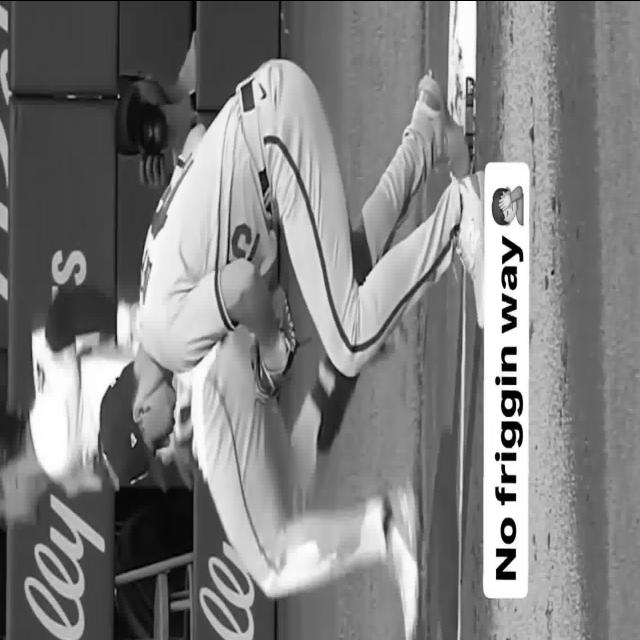base: (448, 0, 476, 127)
baseball_glove: (272, 284, 296, 376), (251, 338, 280, 402)
shoe: (408, 71, 471, 178), (385, 487, 420, 640), (456, 169, 484, 327)
